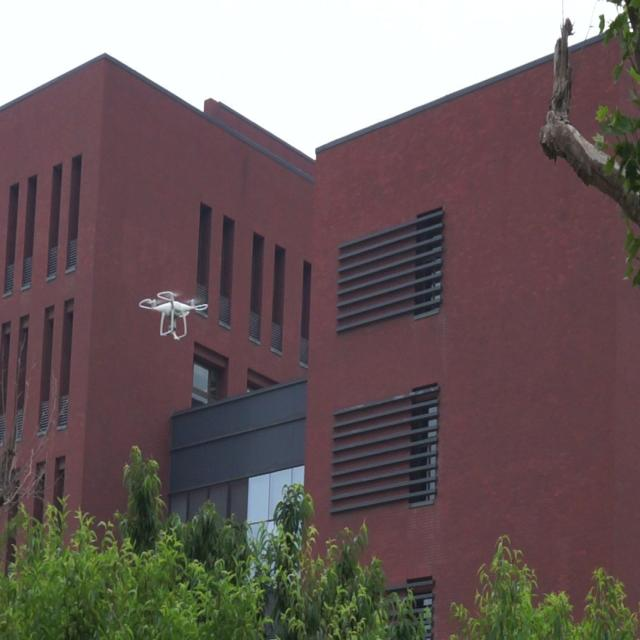drone: (139, 283, 211, 343)
